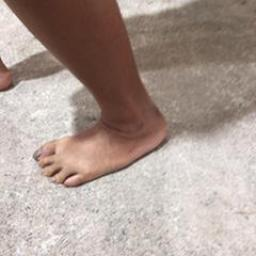Lateral View -Right Foot-: (27, 92, 175, 191)
